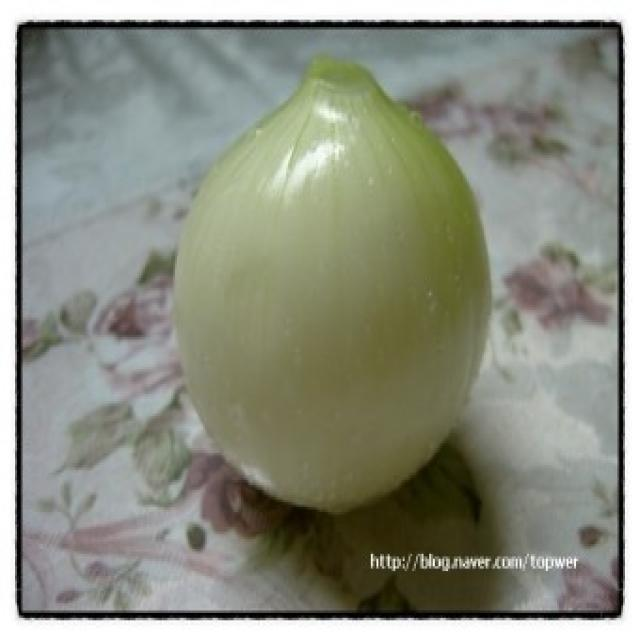Onion: (172, 57, 495, 509)
